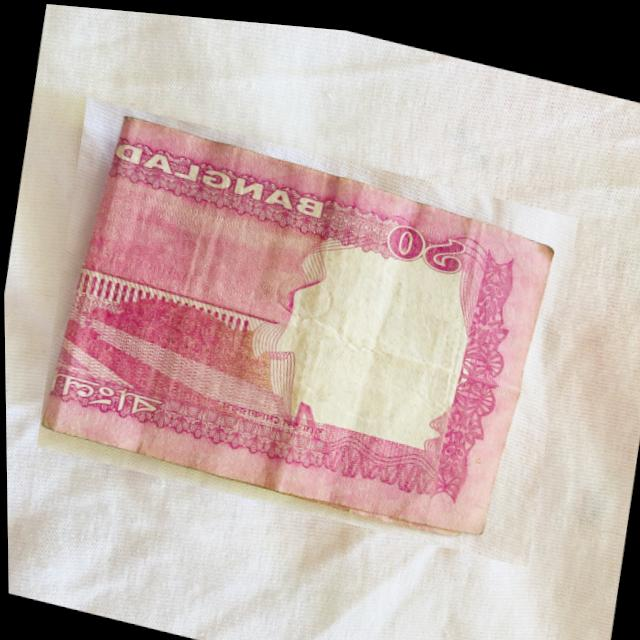Taka: (32, 92, 583, 562)
